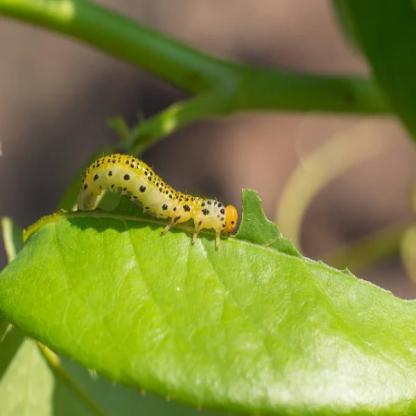sawfly: (63, 152, 242, 249)
